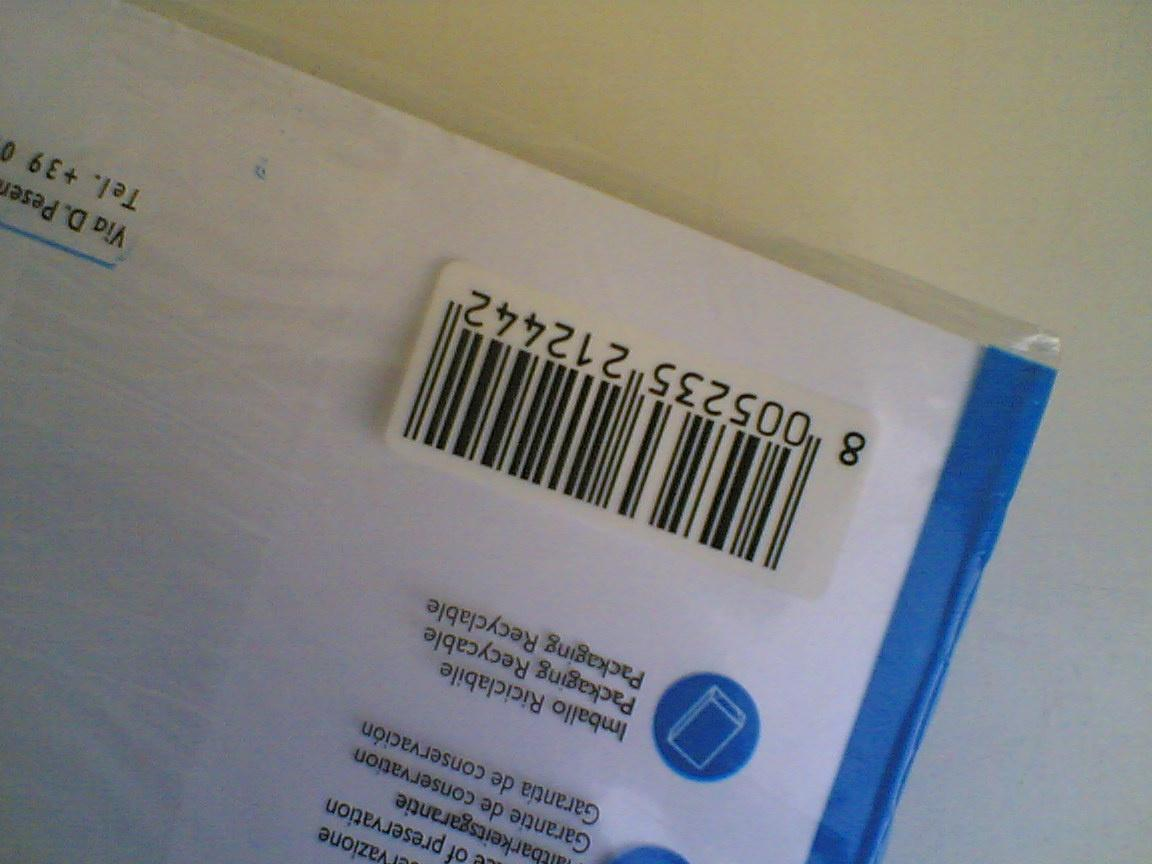Barcode: (385, 256, 878, 605)
